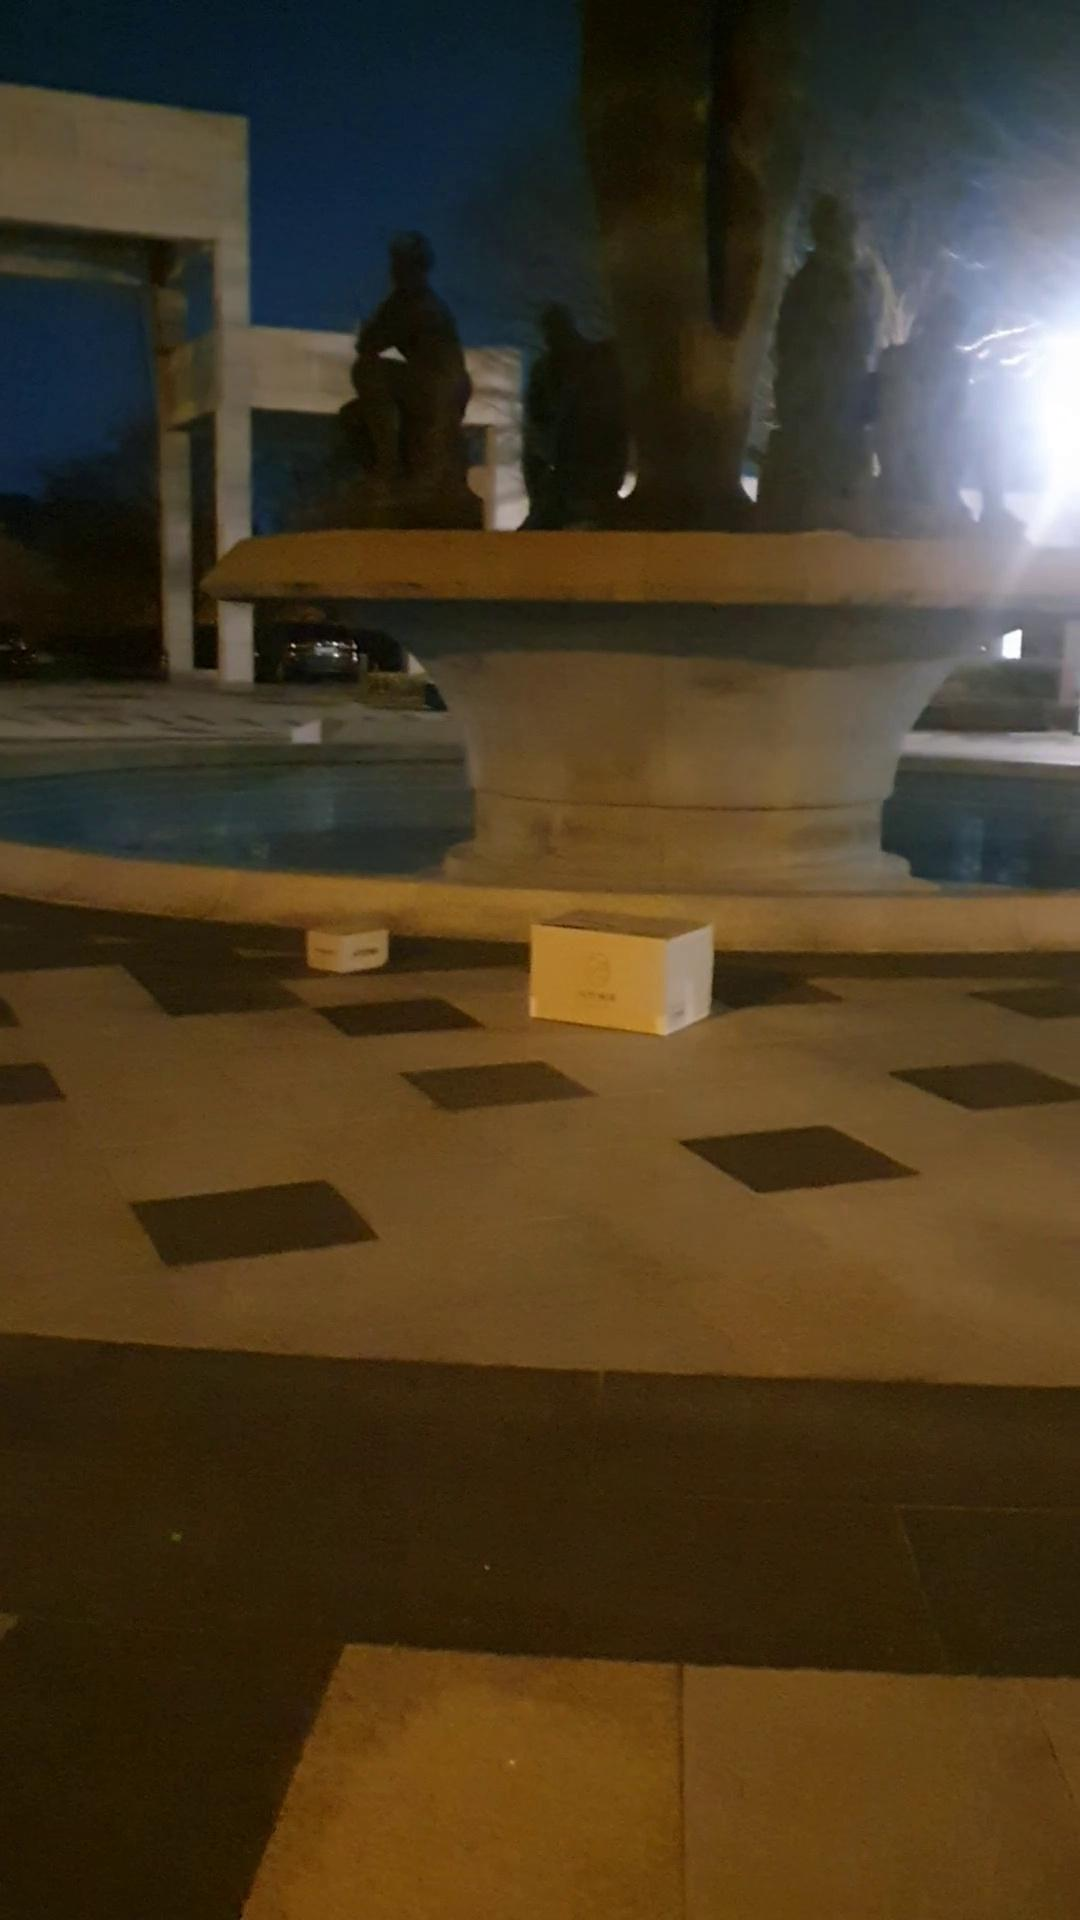Box: (488, 868, 732, 1077), (291, 913, 429, 1007)
